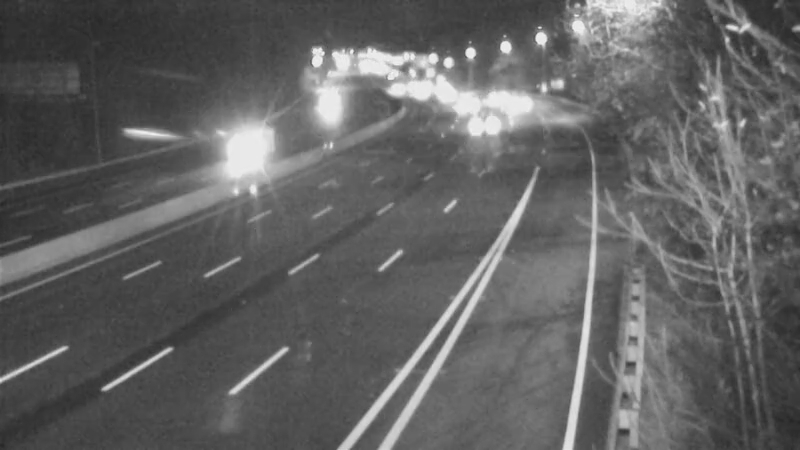vehicle: (196, 113, 276, 193), (465, 71, 515, 121), (438, 80, 488, 130), (495, 76, 545, 126), (460, 96, 510, 146), (303, 82, 353, 132)
